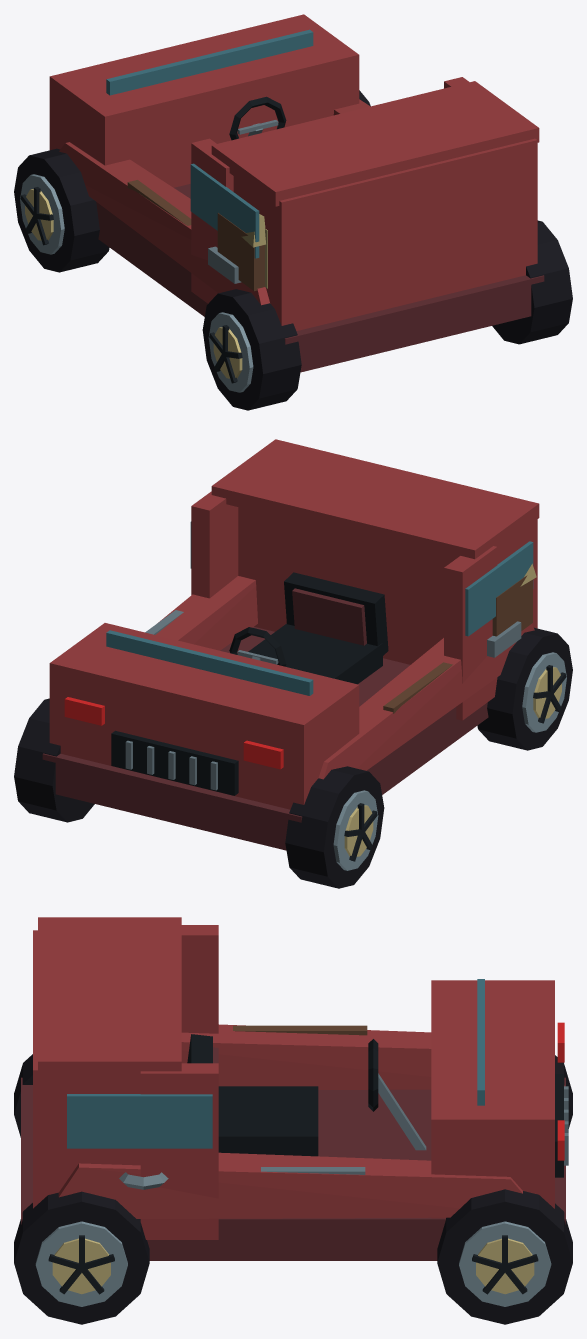
Rendered from kart.glb.
3 renders of one model, top to bottom at view 1: azimuth 30°, elevation 25°; view 2: azimuth 150°, elevation 25°; view 3: azimuth 270°, elevation 25°, orthographic. The views are drawn at different scales.
Parts seen in each view (by area): view 1: identity-van-van-utility-body, wheel-rear-left, wheel-front-left, wheel-rear-right, identity-van-motif-treasure, identity-van-motif-tools, identity-van-driver-cockpit; view 2: identity-van-van-utility-body, identity-van-driver-cockpit, wheel-front-left, wheel-rear-left, wheel-front-right, identity-van-motif-tools, identity-van-motif-treasure; view 3: identity-van-van-utility-body, wheel-front-right, wheel-rear-right, identity-van-driver-cockpit, identity-van-motif-tools, wheel-rear-left.
Boxes of the visible parts, x1,y1,x2,y2 form: identity-van-van-utility-body: (49, 14, 544, 372); wheel-rear-left: (202, 289, 301, 410); wheel-front-left: (14, 148, 109, 272); wheel-rear-right: (492, 220, 572, 344); identity-van-motif-treasure: (217, 213, 267, 291); identity-van-motif-tools: (127, 180, 241, 283); identity-van-driver-cockpit: (229, 96, 286, 140); identity-van-van-utility-body: (42, 439, 539, 850); identity-van-driver-cockpit: (229, 572, 388, 684); wheel-front-left: (285, 766, 384, 888); wheel-rear-left: (477, 627, 572, 750); wheel-front-right: (14, 698, 94, 822); identity-van-motif-tools: (145, 610, 521, 713); identity-van-motif-treasure: (492, 563, 536, 636); identity-van-van-utility-body: (21, 917, 568, 1260); wheel-front-right: (437, 1189, 572, 1324); wheel-rear-right: (14, 1191, 149, 1324); identity-van-driver-cockpit: (187, 1034, 426, 1156); identity-van-motif-tools: (119, 1025, 367, 1189); wheel-rear-left: (14, 1054, 32, 1137).
Bounding box in the file's own units: 2.13 × 1.38 × 2.8.
